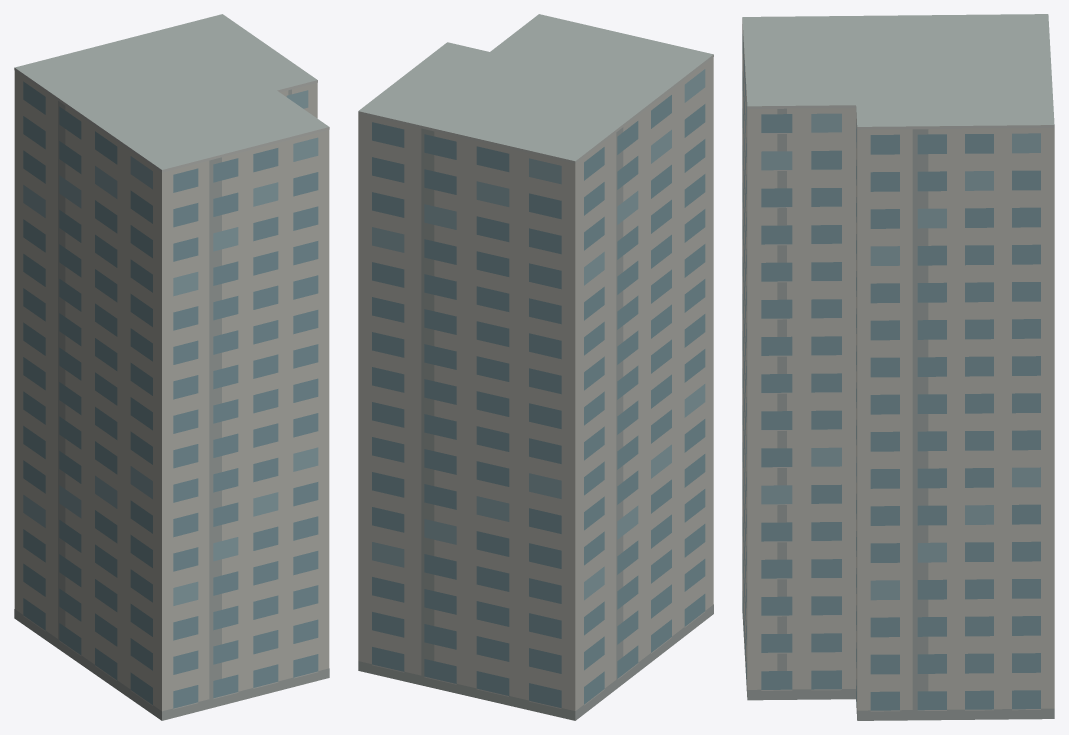
Rendered from residential-7990368a-cf1f-47cf-9069-4329252776a7.glb.
The picture shows the model from 3 angles, left to right: view 1: azimuth 30°, elevation 25°; view 2: azimuth 150°, elevation 25°; view 3: azimuth 270°, elevation 25°; orthographic projection. The views are drawn at different scales.
Parts seen in each view (by area): view 1: residential-7990368a-cf1f-47cf-9069-4329252776a7.tmp; view 2: residential-7990368a-cf1f-47cf-9069-4329252776a7.tmp; view 3: residential-7990368a-cf1f-47cf-9069-4329252776a7.tmp.
Boxes of the visible parts, x1=… form: residential-7990368a-cf1f-47cf-9069-4329252776a7.tmp: x1=14, y1=14, x2=329, y2=720; residential-7990368a-cf1f-47cf-9069-4329252776a7.tmp: x1=358, y1=14, x2=713, y2=720; residential-7990368a-cf1f-47cf-9069-4329252776a7.tmp: x1=742, y1=14, x2=1054, y2=720.
Bounding box in the file's own units: 20.4 × 50 × 23.82.
